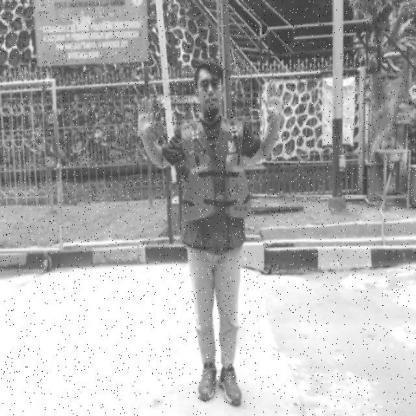boots: (218, 362, 244, 408), (195, 358, 218, 402)
vest: (181, 150, 254, 222)
